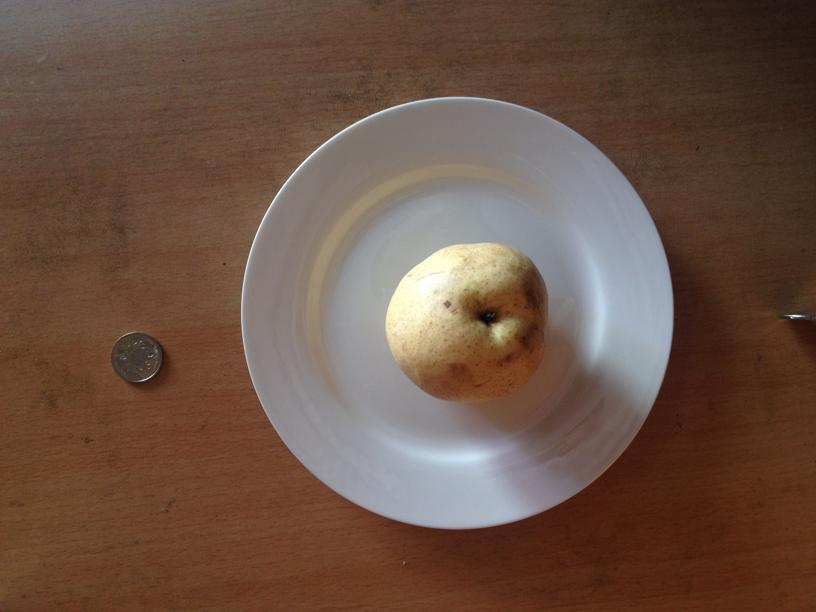coin: (109, 330, 165, 386)
pear: (386, 240, 549, 401)
